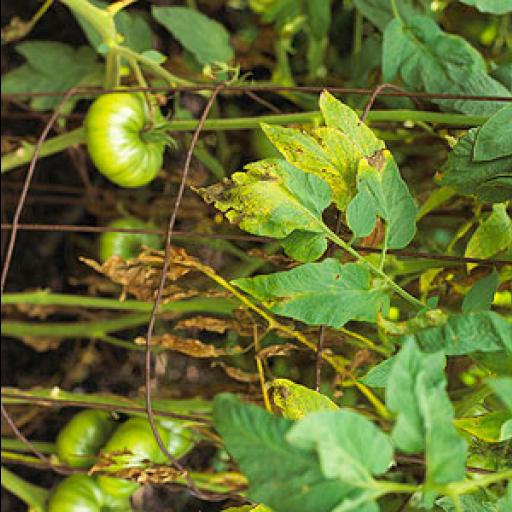Early Blight: (194, 158, 332, 242), (232, 258, 396, 324), (350, 144, 408, 256)
